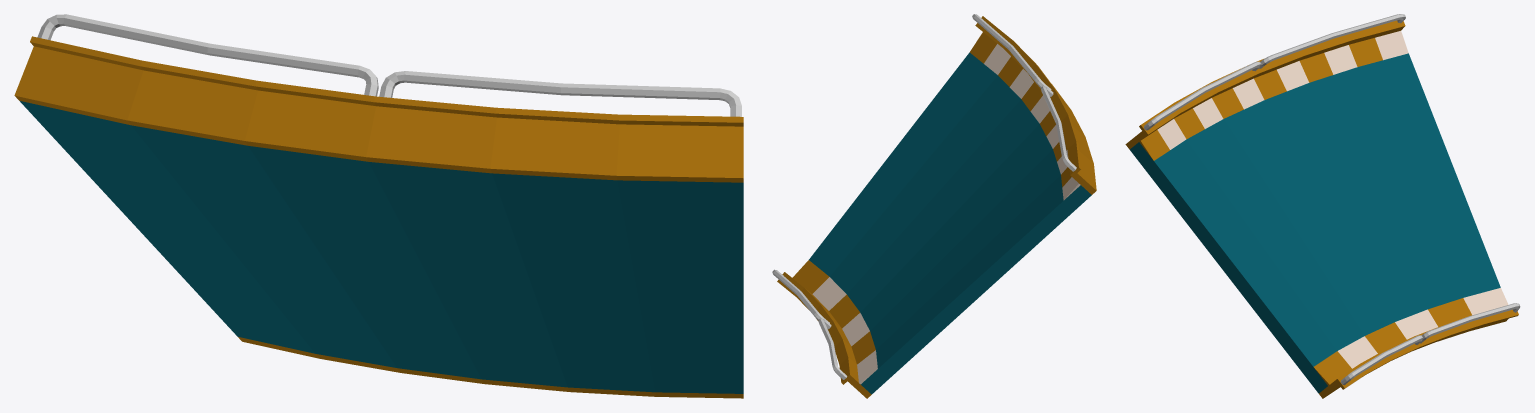
File: bankedLeft-30-45_s.FBX
The picture shows the model from 3 angles, left to right: view 1: azimuth 30°, elevation 25°; view 2: azimuth 150°, elevation 25°; view 3: azimuth 270°, elevation 25°; orthographic projection. The views are drawn at different scales.
Parts seen in each view (by area): view 1: bankedLeft-30-45_s, wall_r, wall_l; view 2: bankedLeft-30-45_s, wall_r, curbs_r, curbs_l, wall_l; view 3: bankedLeft-30-45_s, curbs_r, wall_r, curbs_l, wall_l.
Part boxes in pixels (box(x1,y1,x2,y2)): bankedLeft-30-45_s: box(20, 101, 743, 393); wall_r: box(14, 14, 743, 182); wall_l: box(238, 337, 743, 398); bankedLeft-30-45_s: box(809, 52, 1091, 394); wall_r: box(972, 14, 1096, 194); curbs_r: box(969, 32, 1080, 200); curbs_l: box(792, 260, 877, 384); wall_l: box(772, 269, 871, 398); bankedLeft-30-45_s: box(1129, 53, 1500, 393); curbs_r: box(1139, 31, 1408, 160); wall_r: box(1125, 14, 1405, 149); curbs_l: box(1314, 288, 1508, 385); wall_l: box(1319, 303, 1520, 398).
Size of what is drawn, in the model's own units: 245 by 163 by 245.
